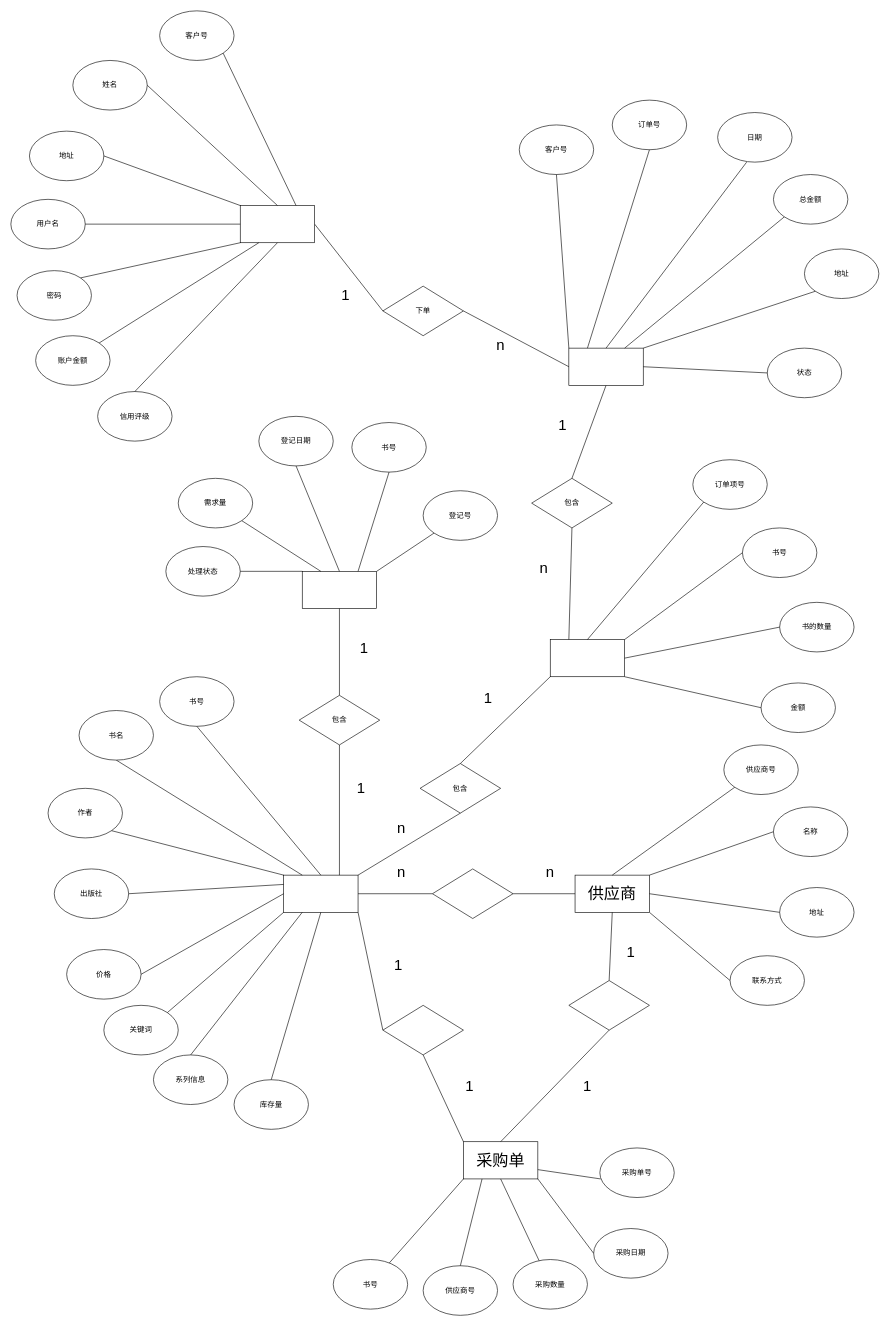
Some shapes in this 890 by 1326 pixel diagram are drawn without their labels. The box of each missing label's shape, as (x1, y1, x2, y2) in pixels:
书籍: (283, 875, 358, 912)
供应: (432, 868, 513, 919)
客户: (240, 205, 315, 243)
提供: (568, 980, 649, 1030)
缺书记录: (302, 571, 377, 609)
订单: (568, 348, 643, 385)
订单详情: (550, 639, 625, 677)
采购: (382, 1005, 463, 1055)
